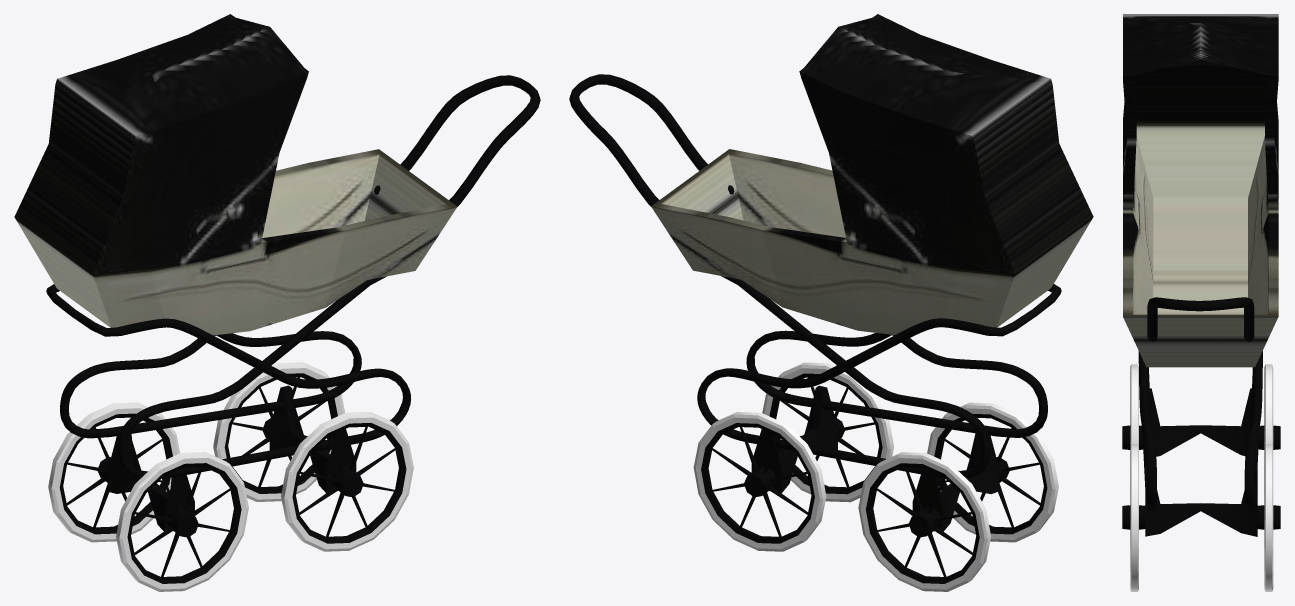
Rendered from kinderwagen.fbx.
3 views of the same model, side by side, from view 1: azimuth 30°, elevation 25°; view 2: azimuth 150°, elevation 25°; view 3: azimuth 270°, elevation 25° (orthographic).
Visible parts, largest first — view 1: nurbsCircle2; view 2: nurbsCircle2; view 3: nurbsCircle2.
Boxes of the visible parts, x1,y1,x2,y2 form: nurbsCircle2: (14, 14, 540, 591); nurbsCircle2: (569, 14, 1093, 591); nurbsCircle2: (1122, 14, 1280, 591).
Bounding box in the file's own units: 23.79 × 24.21 × 6.91.
